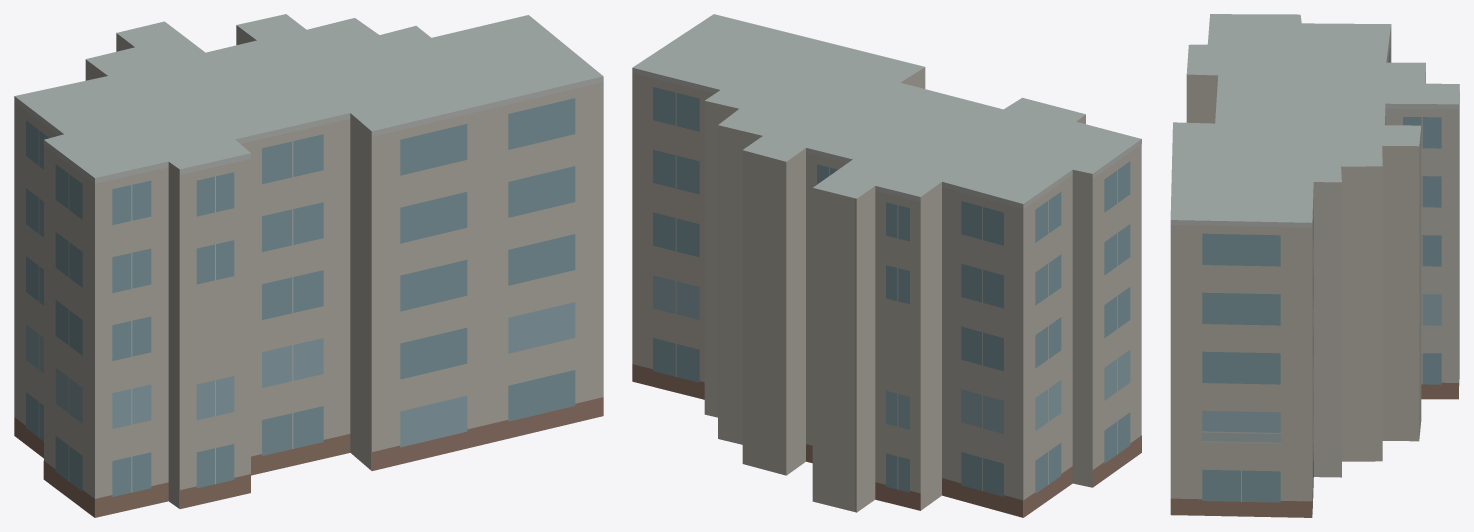
File: survey-upis-32625376.glb
3 renders of one model, left to right at view 1: azimuth 30°, elevation 25°; view 2: azimuth 150°, elevation 25°; view 3: azimuth 270°, elevation 25°, orthographic. The views are drawn at different scales.
Parts seen in each view (by area): view 1: survey-upis-32625376.tmp; view 2: survey-upis-32625376.tmp; view 3: survey-upis-32625376.tmp.
Boxes of the visible parts, x1,y1,x2,y2 form: survey-upis-32625376.tmp: (14,14,603,517); survey-upis-32625376.tmp: (632,14,1141,517); survey-upis-32625376.tmp: (1170,14,1459,517).
Size of the model in its own units: 22.02 by 14.5 by 12.87.
